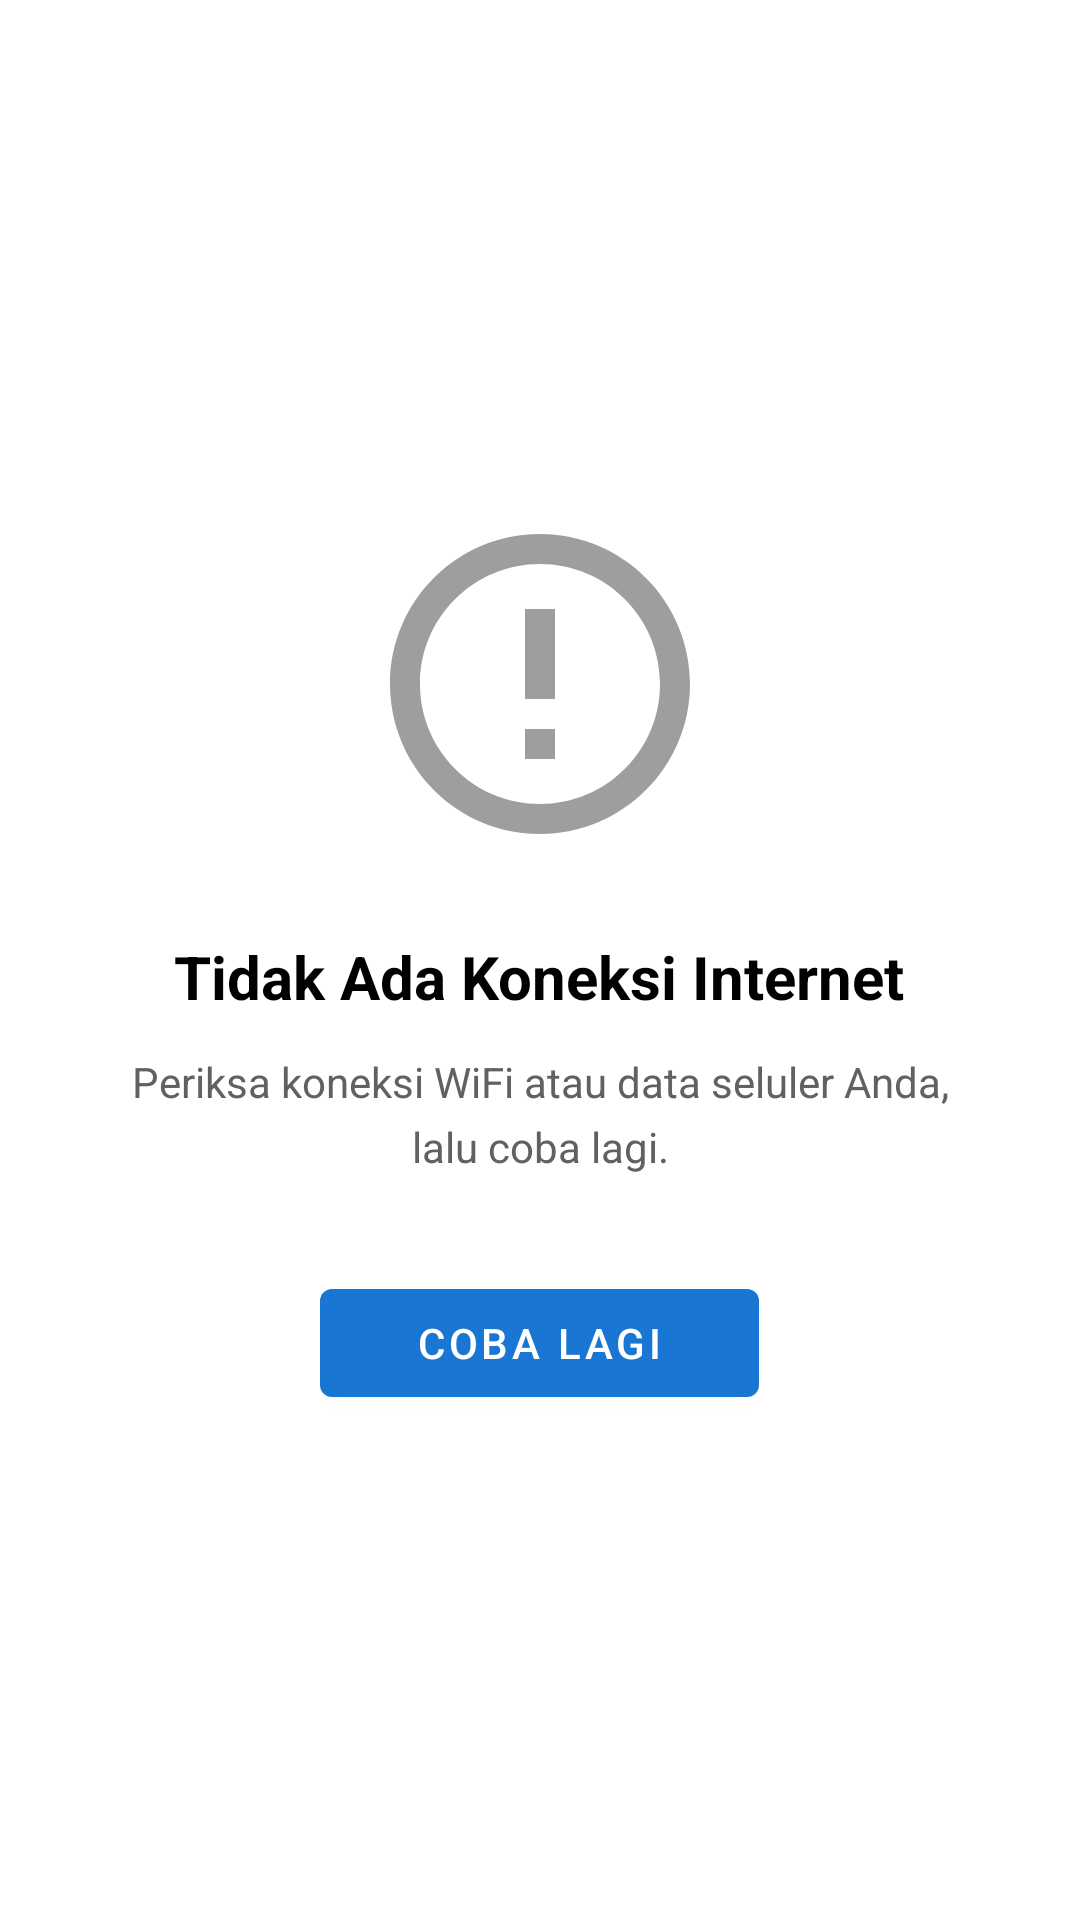

Where icons sit on this 1080x1920 app screen, as [x1, y1, x2, y2]:
Error: [390, 534, 690, 834]
